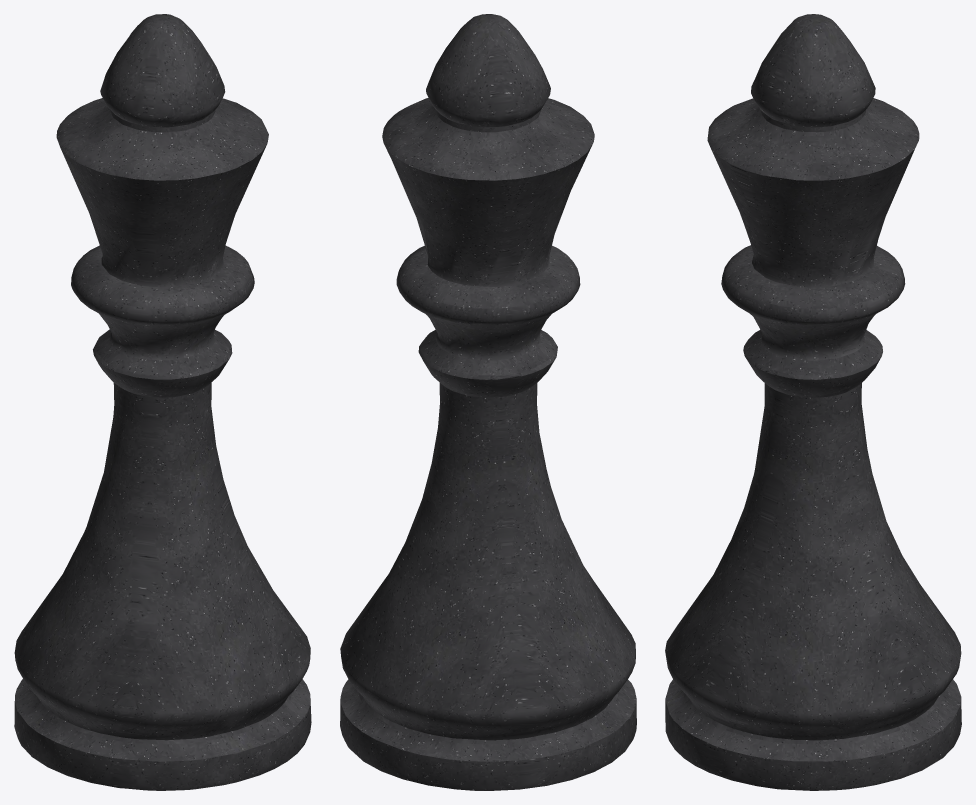
Rendered from kral_cerna.glb.
3 renders of one model, left to right at view 1: azimuth 30°, elevation 25°; view 2: azimuth 150°, elevation 25°; view 3: azimuth 270°, elevation 25°, orthographic.
Parts seen in each view (by area): view 1: kral_cerna; view 2: kral_cerna; view 3: kral_cerna.
Boxes of the visible parts, x1,y1,x2,y2 form: kral_cerna: (14,14,311,790); kral_cerna: (340,14,636,790); kral_cerna: (665,14,961,790).
Bounding box in the file's own units: 0.0355 × 0.095 × 0.0354.
Materials: 1 (1 with a texture image).
